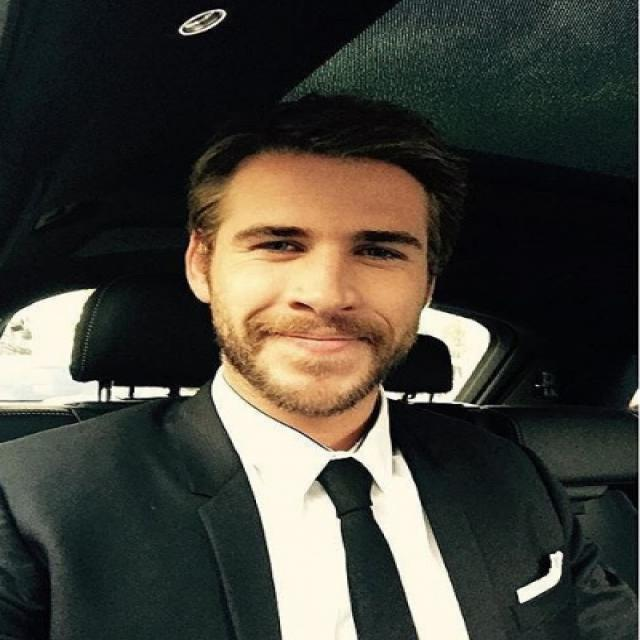earlobe: (190, 274, 213, 304)
eye: (352, 244, 408, 262), (248, 240, 307, 256)
nose: (284, 302, 366, 328)
wholeear: (186, 227, 213, 303)
